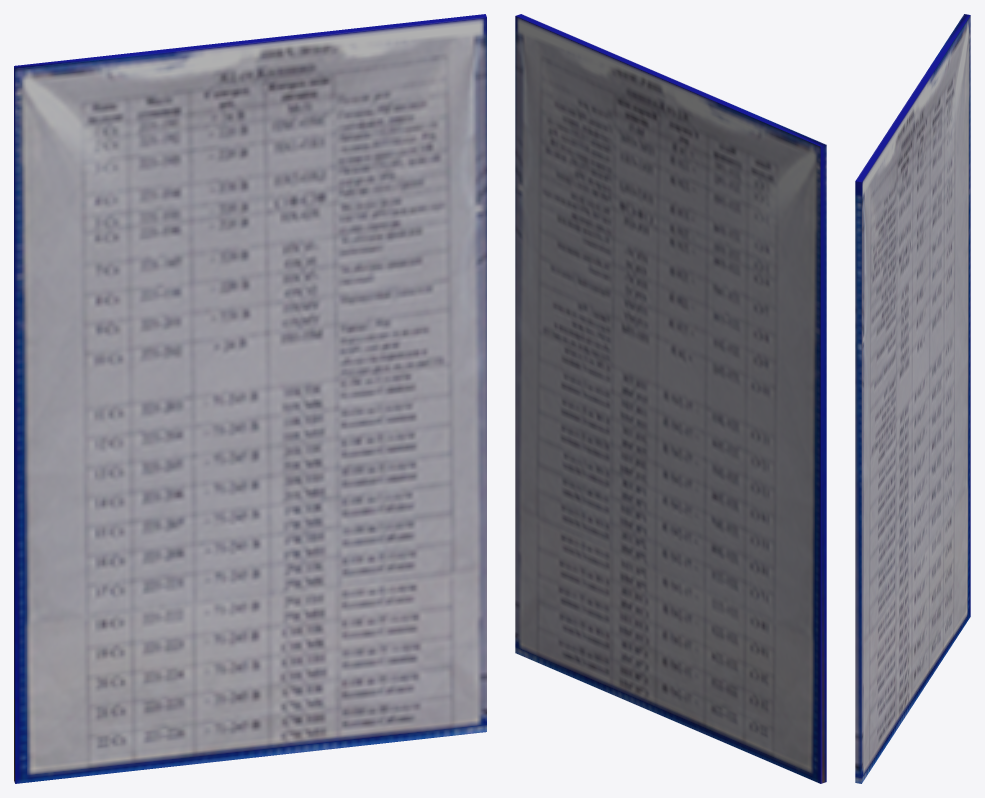
3 views of the same model, side by side, from view 1: azimuth 30°, elevation 25°; view 2: azimuth 150°, elevation 25°; view 3: azimuth 270°, elevation 25° (orthographic). The views are drawn at different scales.
Parts seen in each view (by area): view 1: Box425; view 2: Box425; view 3: Box425.
Boxes of the visible parts, x1,y1,x2,y2 form: Box425: [14, 14, 486, 783]; Box425: [515, 14, 826, 783]; Box425: [855, 14, 970, 783].
Size of the model in its own units: 15.62 by 26.04 by 4.52.
1 material, 1 textured.
